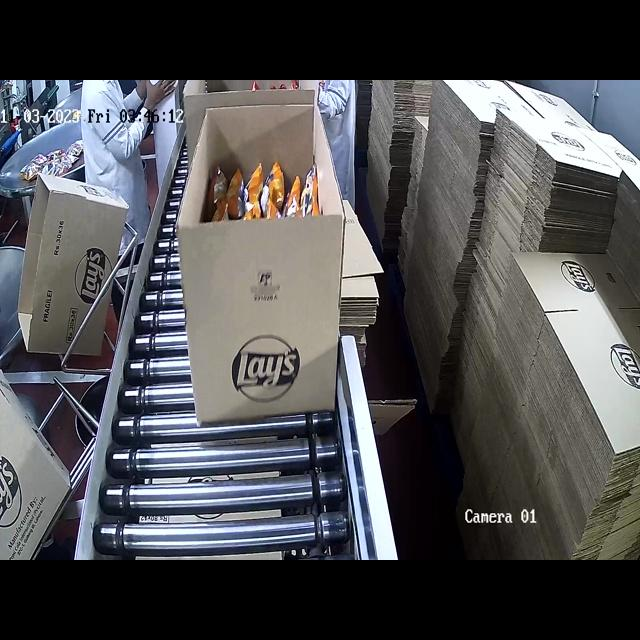cheese: (221, 150, 333, 219)
